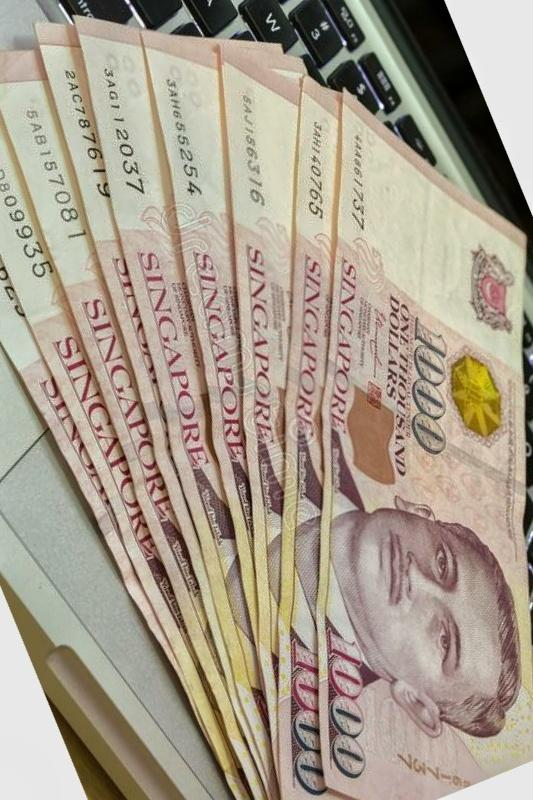1000SingaporeDollar: (329, 129, 533, 800)
